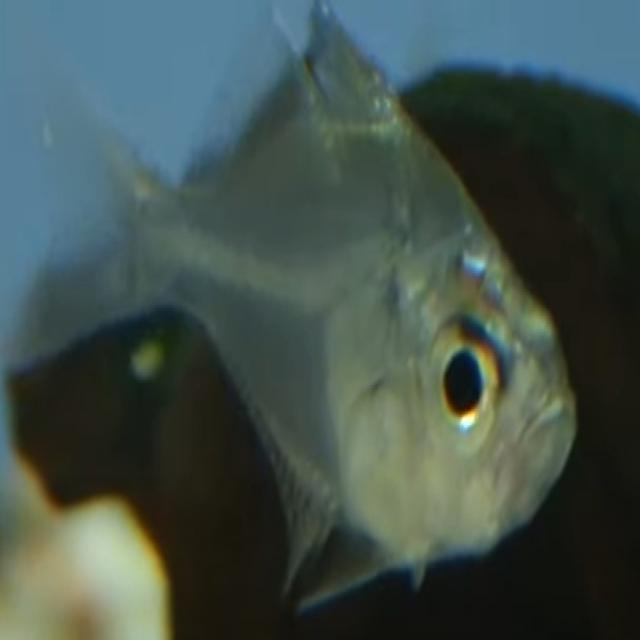Glass-Perchlet: (22, 16, 582, 640)
